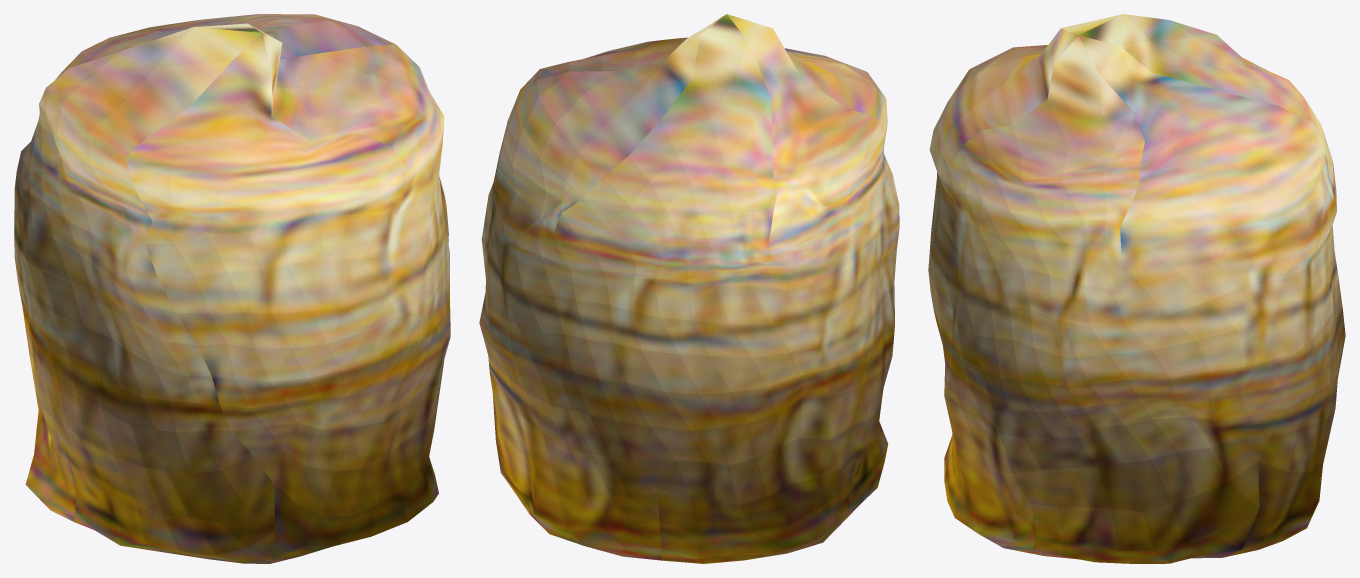
The model's file is a_pirate_barrel_full_of_treasures.gltf.
The picture shows the model from 3 angles, left to right: view 1: azimuth 30°, elevation 25°; view 2: azimuth 150°, elevation 25°; view 3: azimuth 270°, elevation 25°; orthographic projection. The views are drawn at different scales.
Parts seen in each view (by area): view 1: pMesh1; view 2: pMesh1; view 3: pMesh1.
Boxes of the visible parts, x1,y1,x2,y2 form: pMesh1: (14, 14, 450, 563); pMesh1: (479, 14, 899, 563); pMesh1: (928, 14, 1345, 563).
Size of the model in its own units: 1.91 by 2.41 by 1.94.
1 material, 1 textured.
